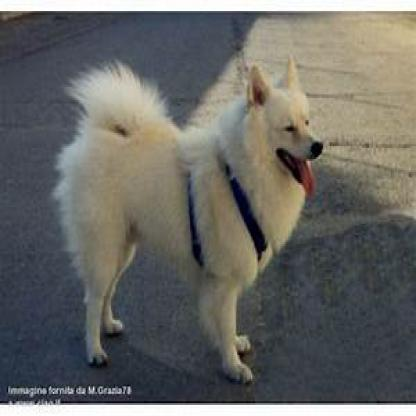dog: (54, 53, 313, 381)
